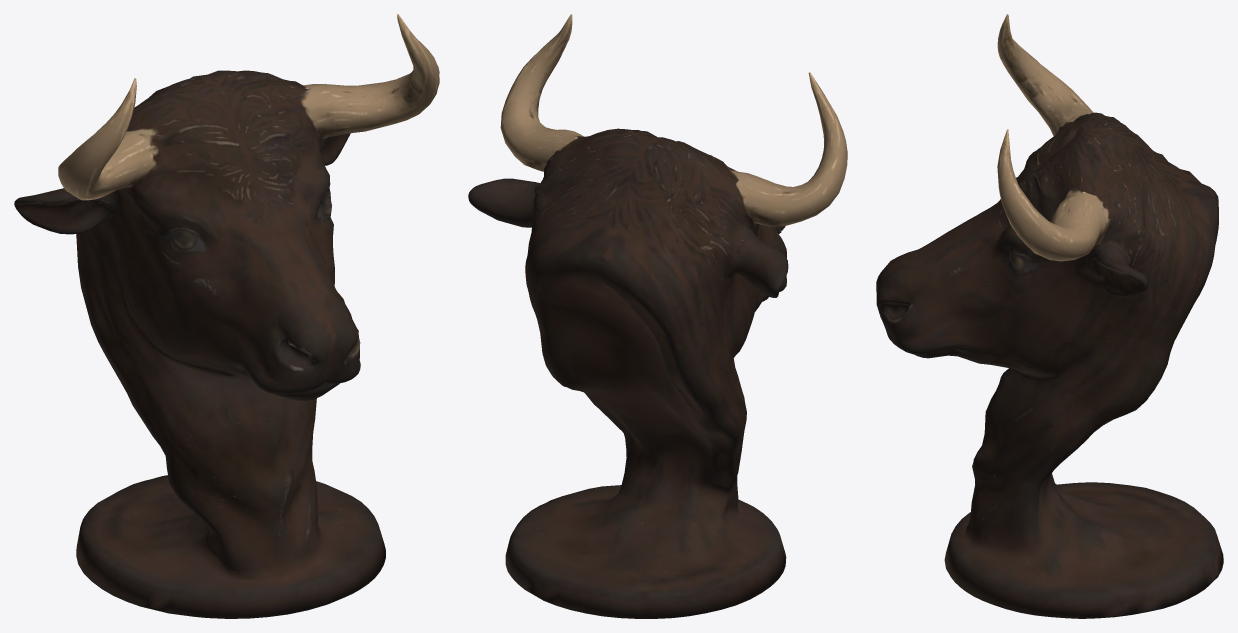
Rendered from bull_head.glb.
3 views of the same model, side by side, from view 1: azimuth 30°, elevation 25°; view 2: azimuth 150°, elevation 25°; view 3: azimuth 270°, elevation 25° (orthographic). The views are drawn at different scales.
Parts seen in each view (by area): view 1: bull_head; view 2: bull_head; view 3: bull_head.
Part boxes in pixels (x1,y1,x2,y2): bull_head: (14, 14, 439, 618); bull_head: (468, 14, 847, 618); bull_head: (876, 14, 1223, 618).
Size of the model in its own units: 0.3063 by 0.433 by 0.2805.
Materials: 1 (1 with a texture image).
